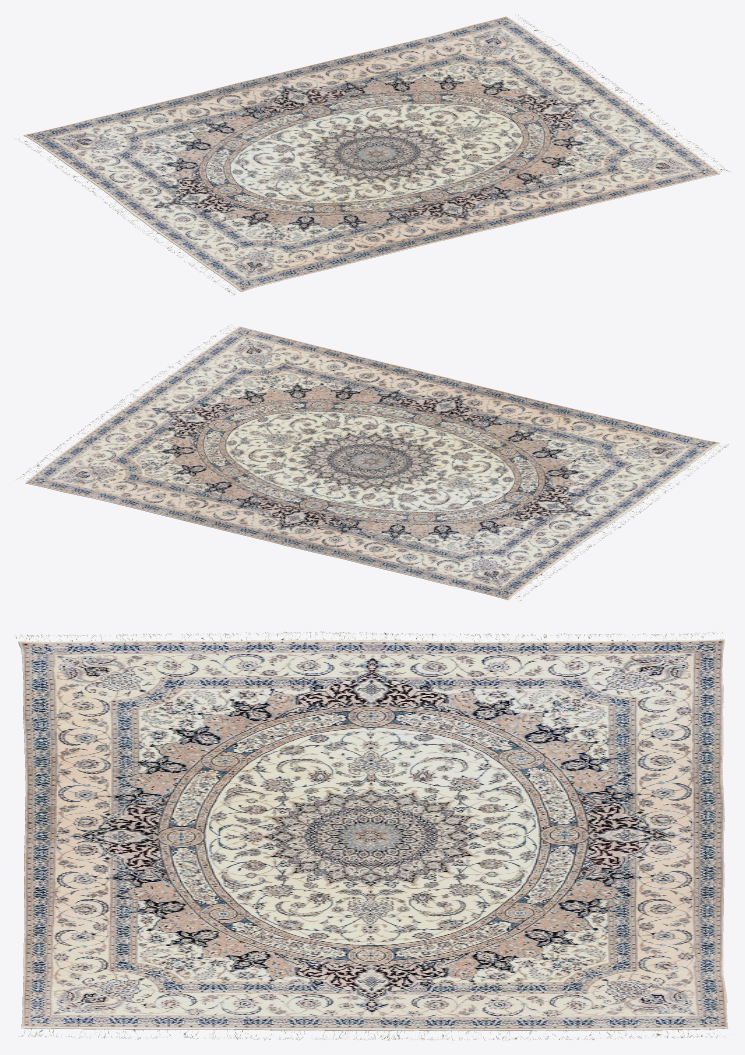
File: persian-nain-carpet.glb
3 views of the same model, one above another, from view 1: azimuth 30°, elevation 25°; view 2: azimuth 150°, elevation 25°; view 3: azimuth 270°, elevation 25° (orthographic). The views are drawn at different scales.
Visible parts, largest first — view 1: Persian Nain Carpet_2, frange1_0, frange2_1; view 2: Persian Nain Carpet_2, frange1_0, frange2_1; view 3: Persian Nain Carpet_2, frange2_1, frange1_0.
Boxes of the visible parts, <box> form: Persian Nain Carpet_2: <box>23,16,720,291</box>; frange1_0: <box>14,136,235,295</box>; frange2_1: <box>513,14,730,172</box>; Persian Nain Carpet_2: <box>25,326,719,600</box>; frange1_0: <box>510,444,728,602</box>; frange2_1: <box>17,326,235,480</box>; Persian Nain Carpet_2: <box>18,639,727,1030</box>; frange2_1: <box>19,1028,724,1040</box>; frange1_0: <box>15,631,722,641</box>.
Bounding box in the file's own units: 4.17 × 0.0228 × 3.09.
Materials: 2 (1 with a texture image).
